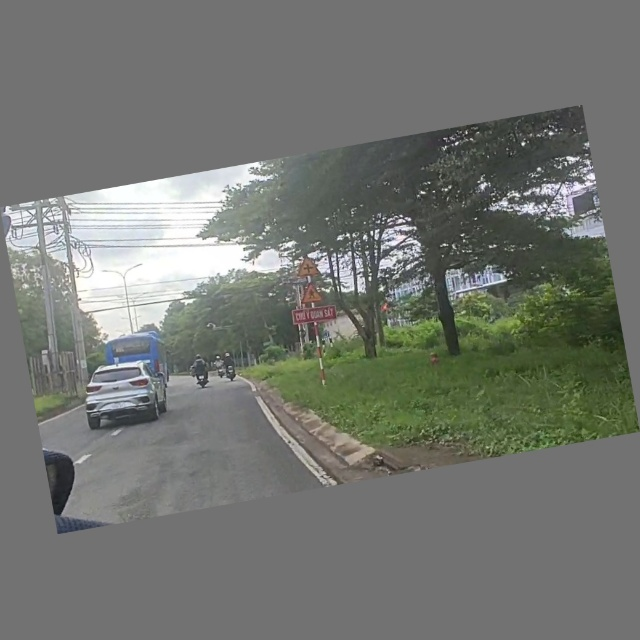W.205a: (293, 254, 325, 280)
W.224: (295, 280, 327, 306)
